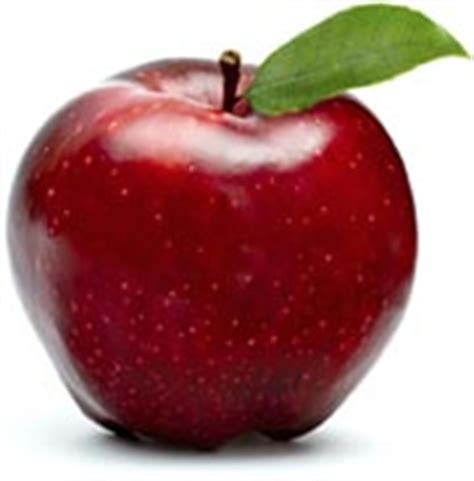apple: (7, 57, 421, 451)
